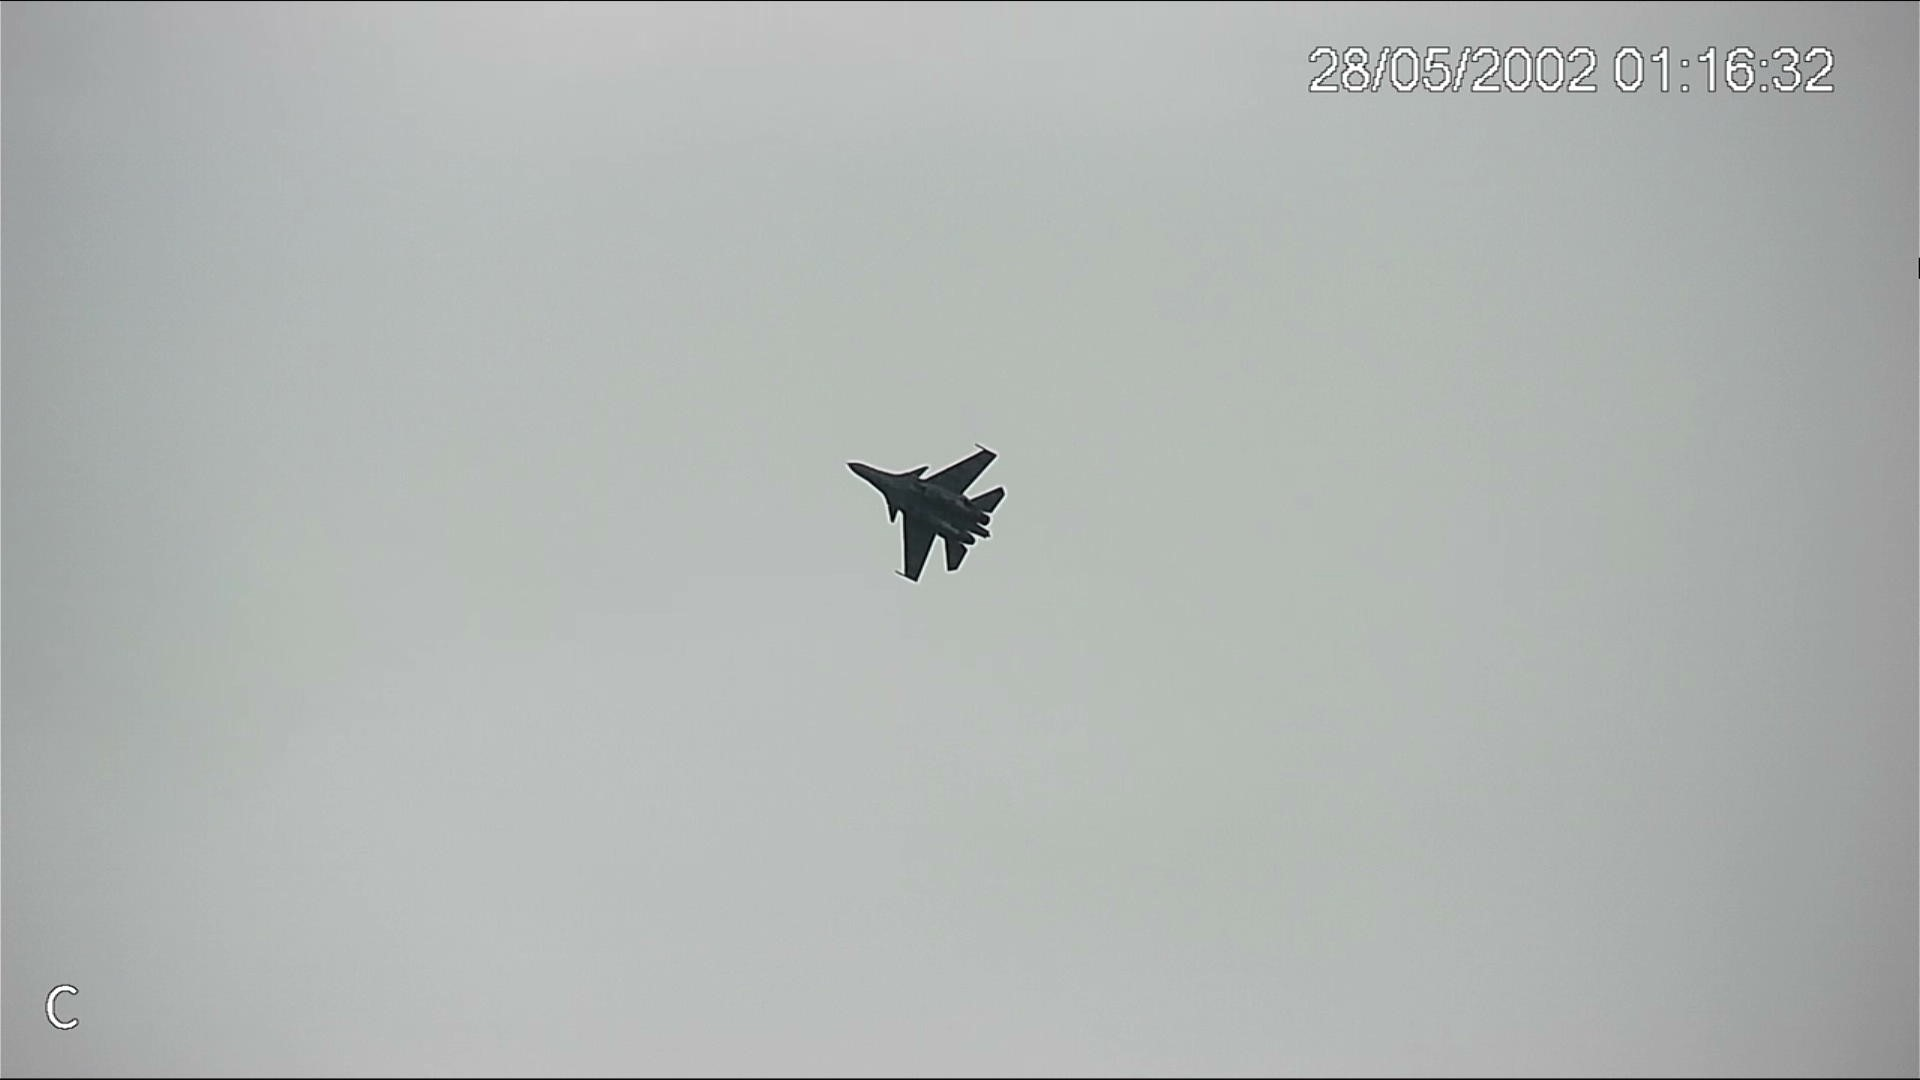SU_30: (844, 440, 1006, 585)
